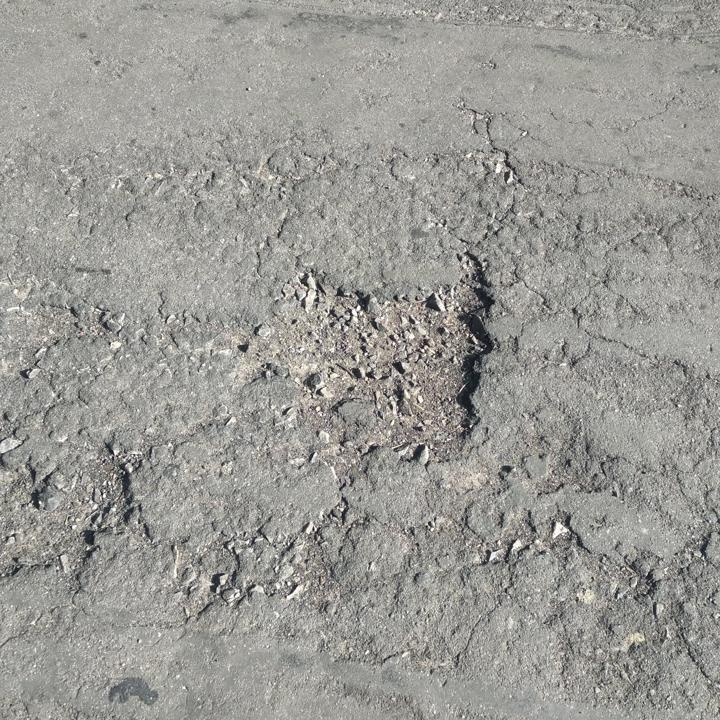pothole: (262, 246, 508, 463), (49, 445, 140, 573)
